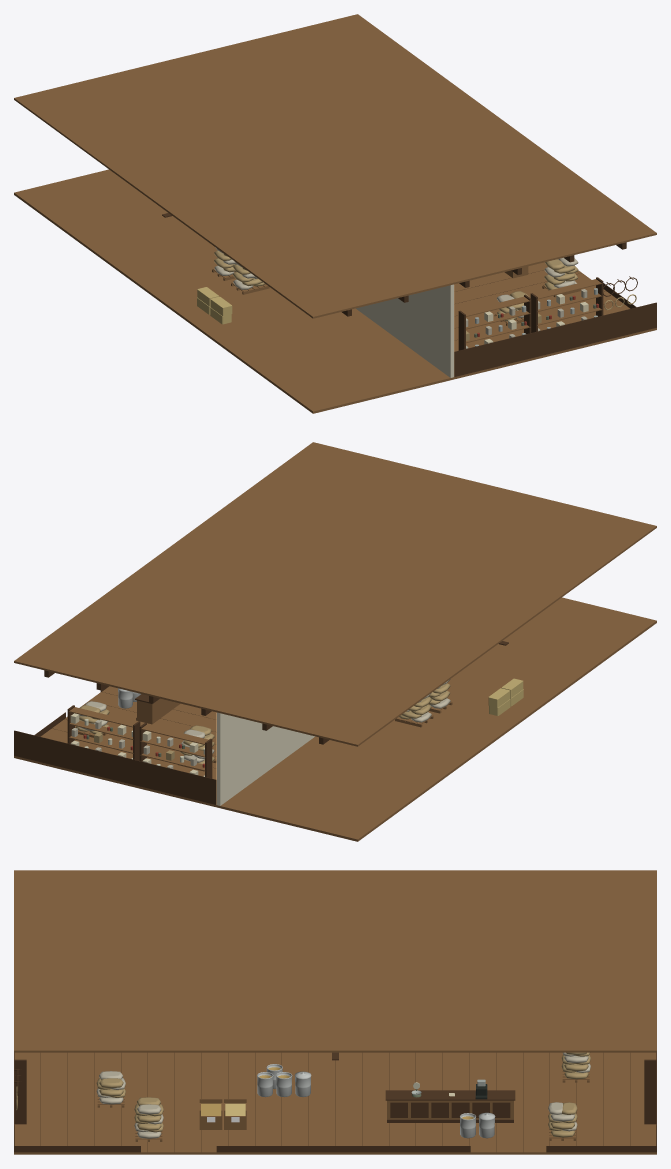
Rendered from SM_Town_Feed_Interior_LOD1.fbx.
3 renders of one model, top to bottom at view 1: azimuth 30°, elevation 25°; view 2: azimuth 150°, elevation 25°; view 3: azimuth 270°, elevation 25°, orthographic. The views are drawn at different scales.
Parts seen in each view (by area): view 1: SM_Town_Feed_Interior_LOD1; view 2: SM_Town_Feed_Interior_LOD1; view 3: SM_Town_Feed_Interior_LOD1.
Boxes of the visible parts, x1,y1,x2,y2 form: SM_Town_Feed_Interior_LOD1: (14, 14, 656, 413); SM_Town_Feed_Interior_LOD1: (14, 442, 656, 841); SM_Town_Feed_Interior_LOD1: (14, 870, 656, 1154).
Size of the model in its own units: 15.78 by 23.78 by 4.25.
